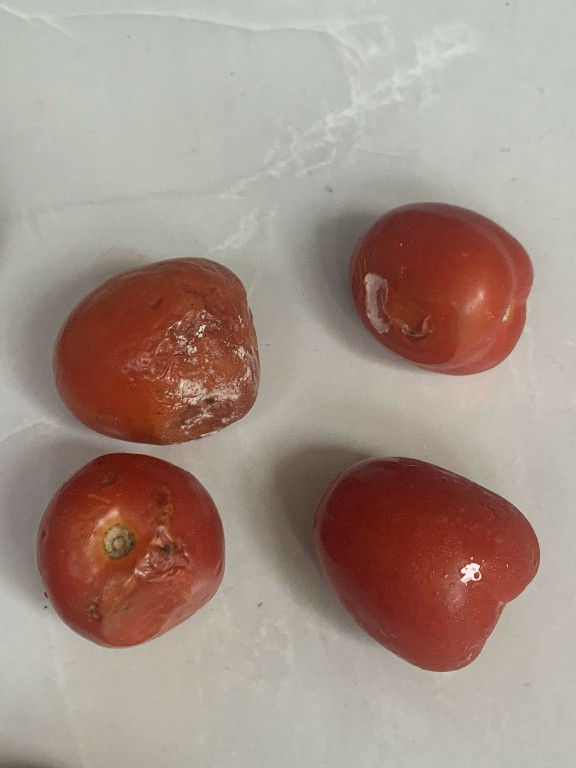NG: (36, 250, 266, 449), (22, 452, 237, 653), (338, 197, 545, 384)
OK: (294, 451, 545, 684)
